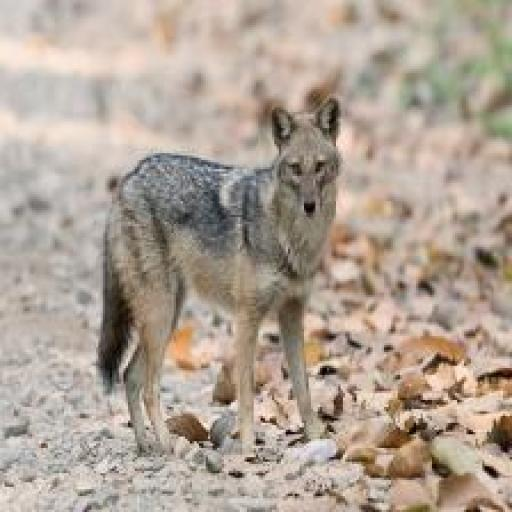wolf: (98, 96, 341, 459)
